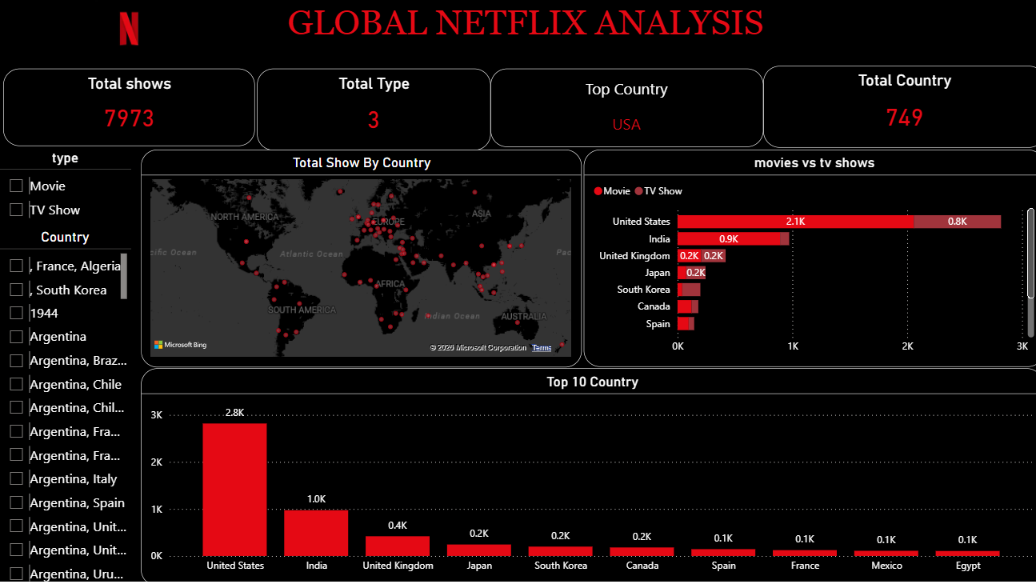

What the dashboard file says about the page in this screenshot:
{"tool":"powerbi","page":{"name":"GLOBAL NETFLIX ANALYSIS","canvas":[1280,720],"ordinal":0},"visuals":[{"type":"textbox","box":[9.6,0,1269.7,105.2],"z":0},{"type":"card","title":"Total Type","fields":{"Values":["Count(netflix_titles.type)"]},"box":[315.8,86,286,100],"z":1000},{"type":"card","title":"Total Country","fields":{"Values":["Count(netflix_titles.country)"]},"box":[935.1,82.5,345.6,100],"z":2000},{"type":"textbox","box":[602,86,334,96],"z":3000},{"type":"map","title":"Total Show By Country","fields":{"Category":["netflix_titles.country"]},"box":[173.3,185,540,266.7],"z":4000},{"type":"barChart","title":"movies vs tv shows","fields":{"Category":["netflix_titles.country"],"Y":["CountNonNull(netflix_titles.show_id)"],"Series":["netflix_titles.type"]},"box":[716,186,564,266],"z":5000},{"type":"columnChart","title":"Top 10 Country","fields":{"Category":["netflix_titles.country"],"Y":["CountNonNull(netflix_titles.show_id)"]},"box":[173.7,452.6,1105.3,266.7],"z":6000},{"type":"slicer","title":"type","fields":{"Values":["netflix_titles.type"]},"box":[0,185,161.7,98.3],"z":7000},{"type":"slicer","title":"Country","fields":{"Values":["netflix_titles.country"]},"box":[0,283.3,161.7,438.3],"z":8000},{"type":"image","box":[0,0,316.3,69.9],"z":9000},{"type":"card","title":"Total shows","fields":{"Values":["CountNonNull(netflix_titles.title)"]},"box":[5,86.7,308.3,95],"z":10000}]}

Visuals, with their boxes in screenshot pixels (x1, y1, x2, y2), scaled from the page's 1280x720 canvas onto the 1036x582 screenshot:
textbox: Rect(8, 0, 1035, 85)
"Total Type" card: Rect(256, 70, 487, 150)
"Total Country" card: Rect(757, 67, 1035, 148)
textbox: Rect(487, 70, 758, 147)
"Total Show By Country" map: Rect(140, 150, 577, 365)
"movies vs tv shows" barChart: Rect(580, 150, 1035, 365)
"Top 10 Country" columnChart: Rect(141, 366, 1035, 581)
"type" slicer: Rect(0, 150, 131, 229)
"Country" slicer: Rect(0, 229, 131, 581)
image: Rect(0, 0, 256, 57)
"Total shows" card: Rect(4, 70, 254, 147)
